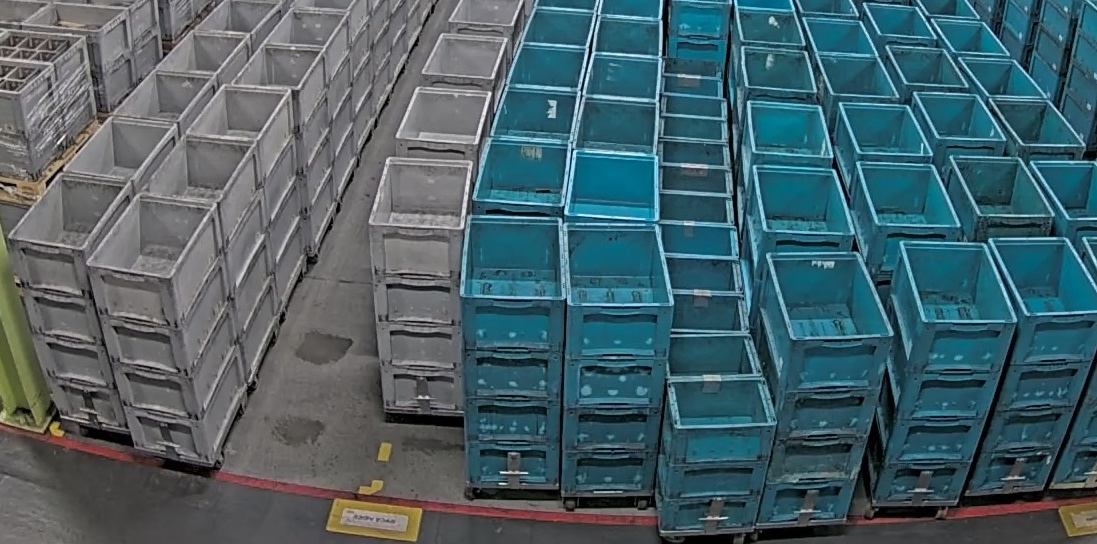4G: (87, 195, 246, 466), (7, 172, 137, 434), (368, 160, 473, 412)
B4: (867, 233, 1017, 508), (755, 252, 894, 529), (964, 238, 1096, 497), (560, 223, 674, 497), (460, 214, 565, 485)
B8: (660, 332, 776, 533)
